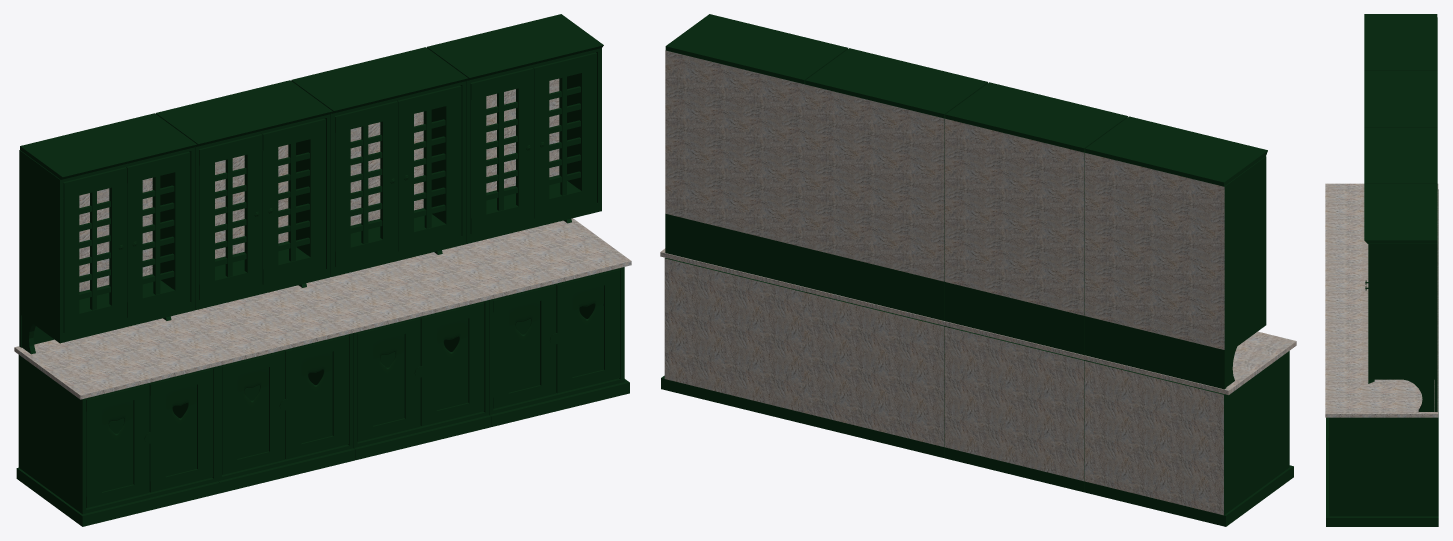
File: mackitchen.fbx
The picture shows the model from 3 angles, left to right: view 1: azimuth 30°, elevation 25°; view 2: azimuth 150°, elevation 25°; view 3: azimuth 270°, elevation 25°; orthographic projection. The views are drawn at different scales.
Parts seen in each view (by area): view 1: cupboard; view 2: cupboard; view 3: cupboard.
Part boxes in pixels (x1,y1,x2,y2): cupboard: (14,14,631,526); cupboard: (660,14,1296,526); cupboard: (1325,14,1438,526).
Size of the model in its own units: 676 by 390 by 141.
2 materials, 1 textured.
